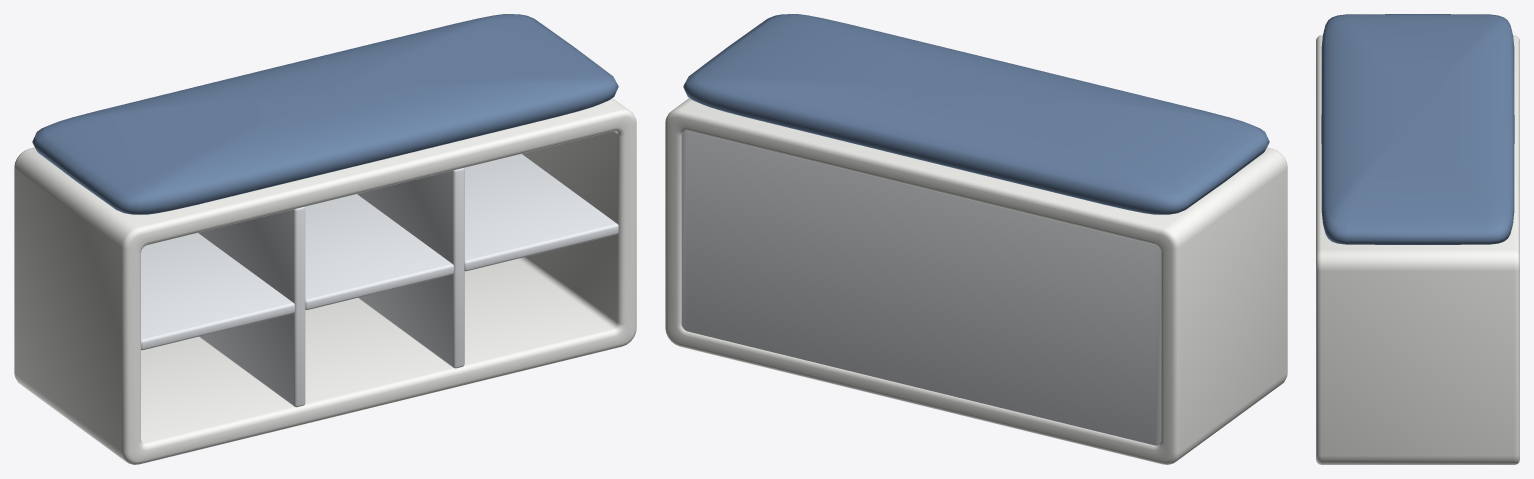
File: banco_sapateira_nichos_branco.glb
3 views of the same model, side by side, from view 1: azimuth 30°, elevation 25°; view 2: azimuth 150°, elevation 25°; view 3: azimuth 270°, elevation 25° (orthographic). The views are drawn at different scales.
Visible parts, largest first — view 1: banco_sapateira_nichos_branco; view 2: banco_sapateira_nichos_branco; view 3: banco_sapateira_nichos_branco.
Boxes of the visible parts, left/top/right/bottom form: banco_sapateira_nichos_branco: left=14, top=14, right=636, bottom=464; banco_sapateira_nichos_branco: left=665, top=14, right=1287, bottom=464; banco_sapateira_nichos_branco: left=1316, top=14, right=1519, bottom=464.
Size of the model in its own units: 1 by 0.508 by 0.38.
Materials: 1 (1 with a texture image).
